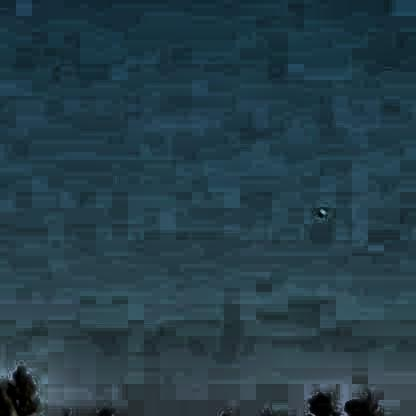golfball: (314, 206, 323, 213)
